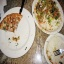pizza: (1, 12, 23, 32)
